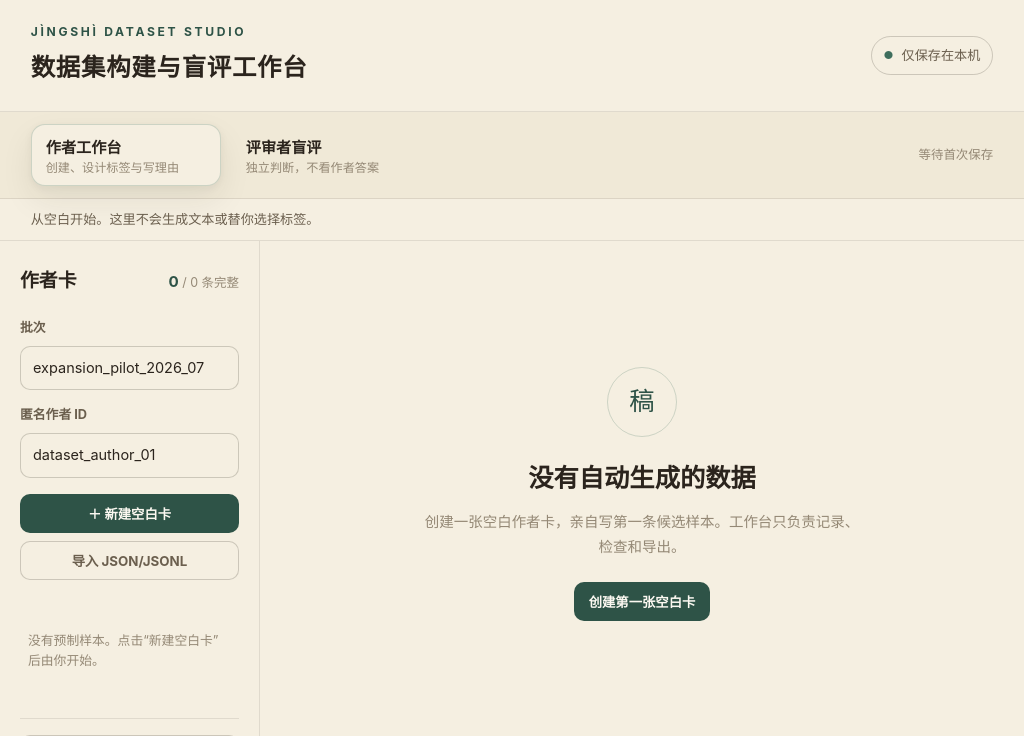
Scenario: Dataset Studio local drafts › recovers a null draft and reports saving only after the latest edit is persisted
Replace the text in the field labelled "批次" with "new-batch" at (130, 368), box [20, 346, 239, 390]
Wait 200 ms
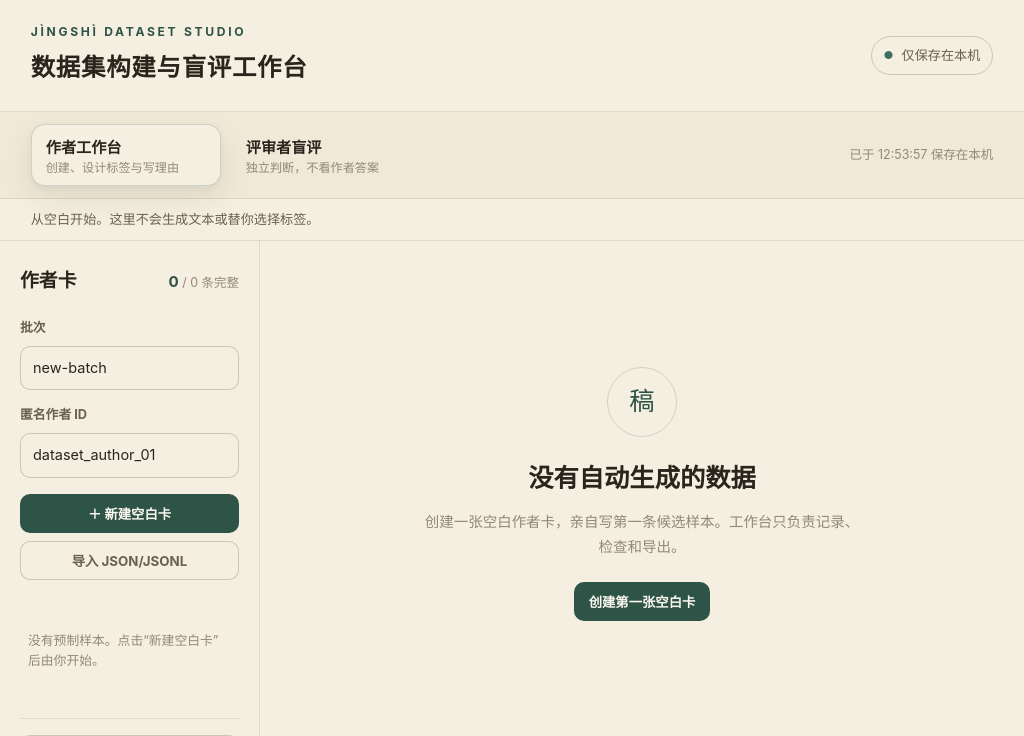
Result: the text "已于 12:53:57 保存在本机" is shown at [850, 144, 993, 166]
